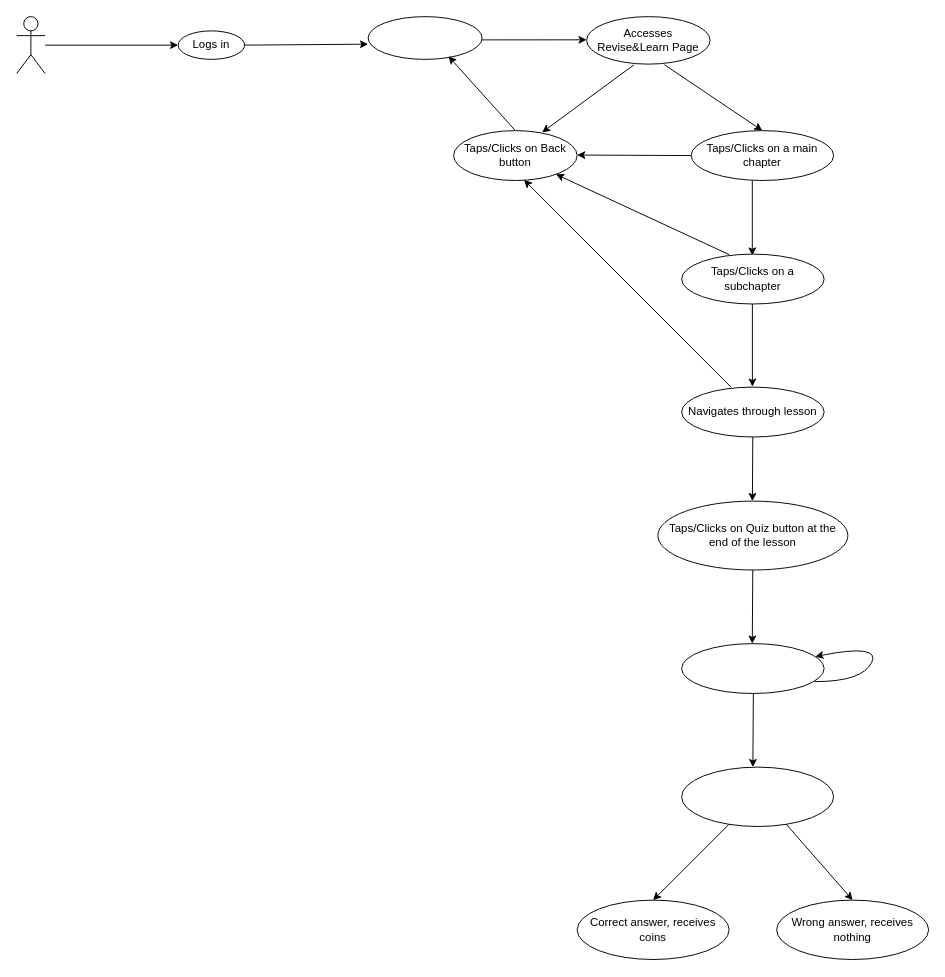
Image size: 945x977. Some labels were removed from this diagram. Here are the shapes that lost their labels. From the top down, the centre of each, then its label:
(30,45): User
(424,37): Acceses Home Page
(752,668): Chooses a possible answer
(757,796): Taps/Clicks on Submit button
